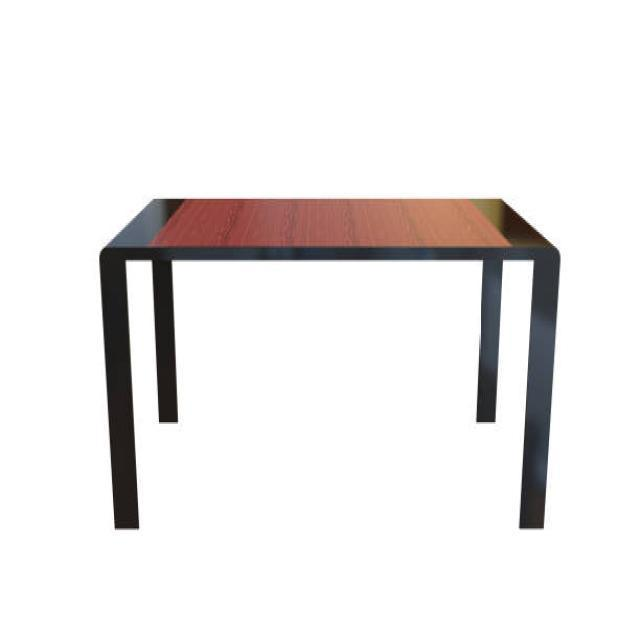table: (99, 195, 560, 532)
